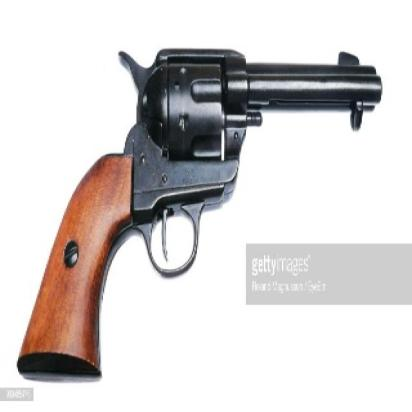Gun: (10, 42, 384, 378)
